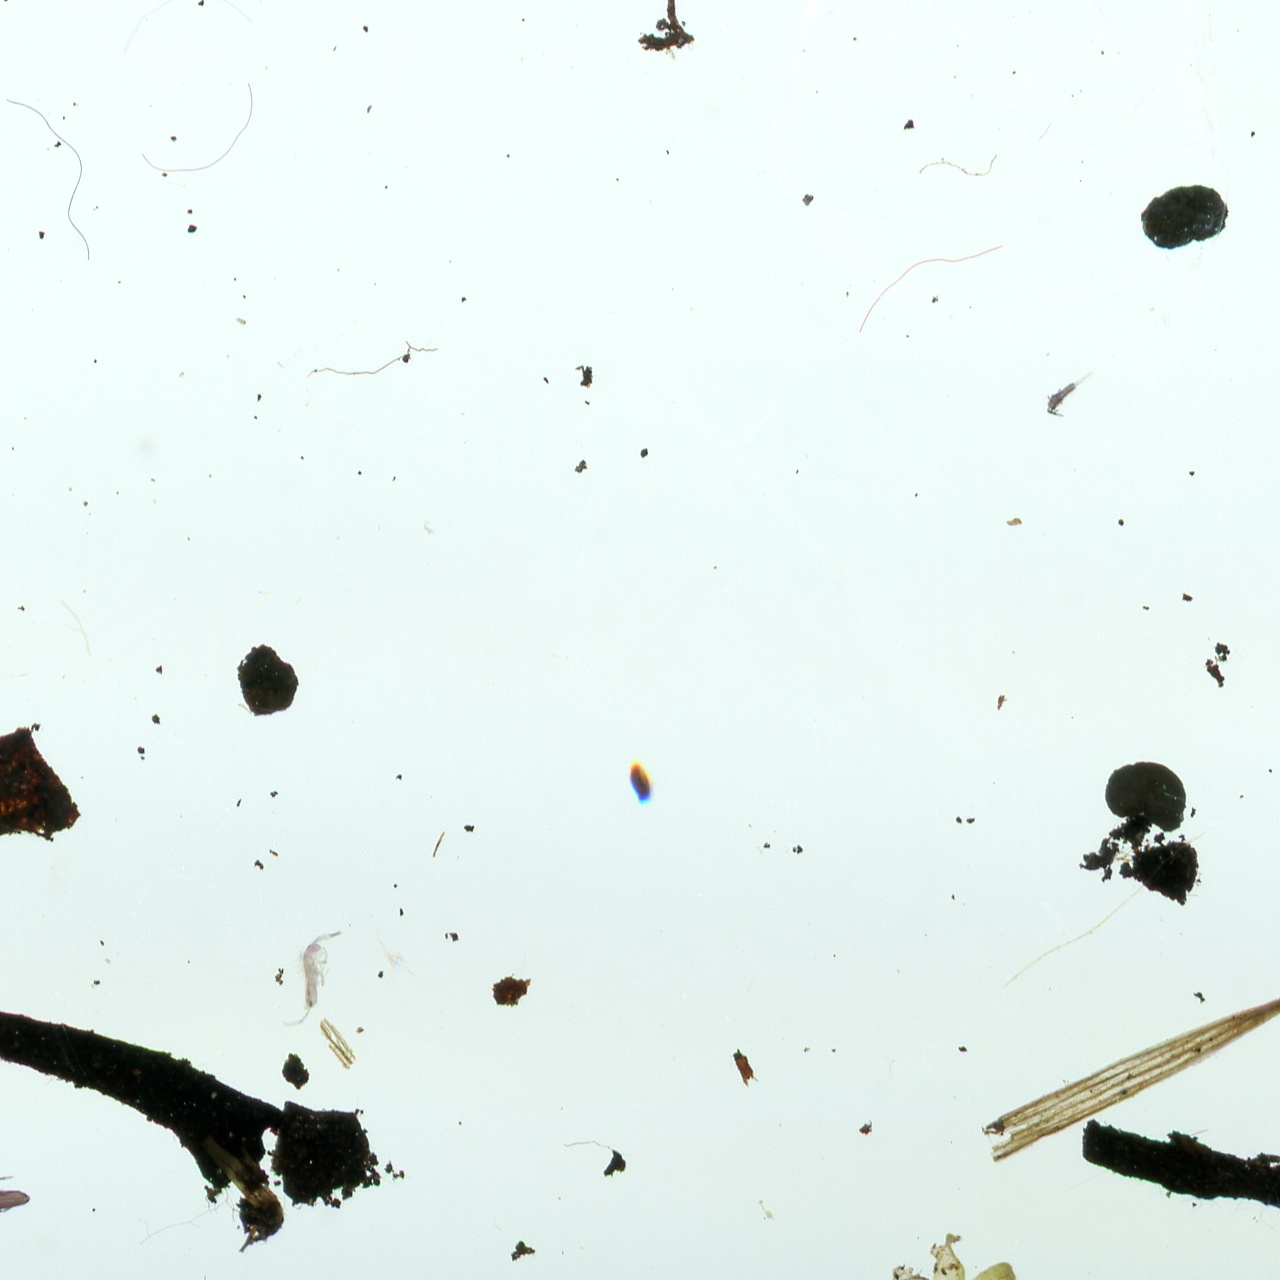arthropod: (279, 927, 341, 1027), (0, 1176, 29, 1233)
